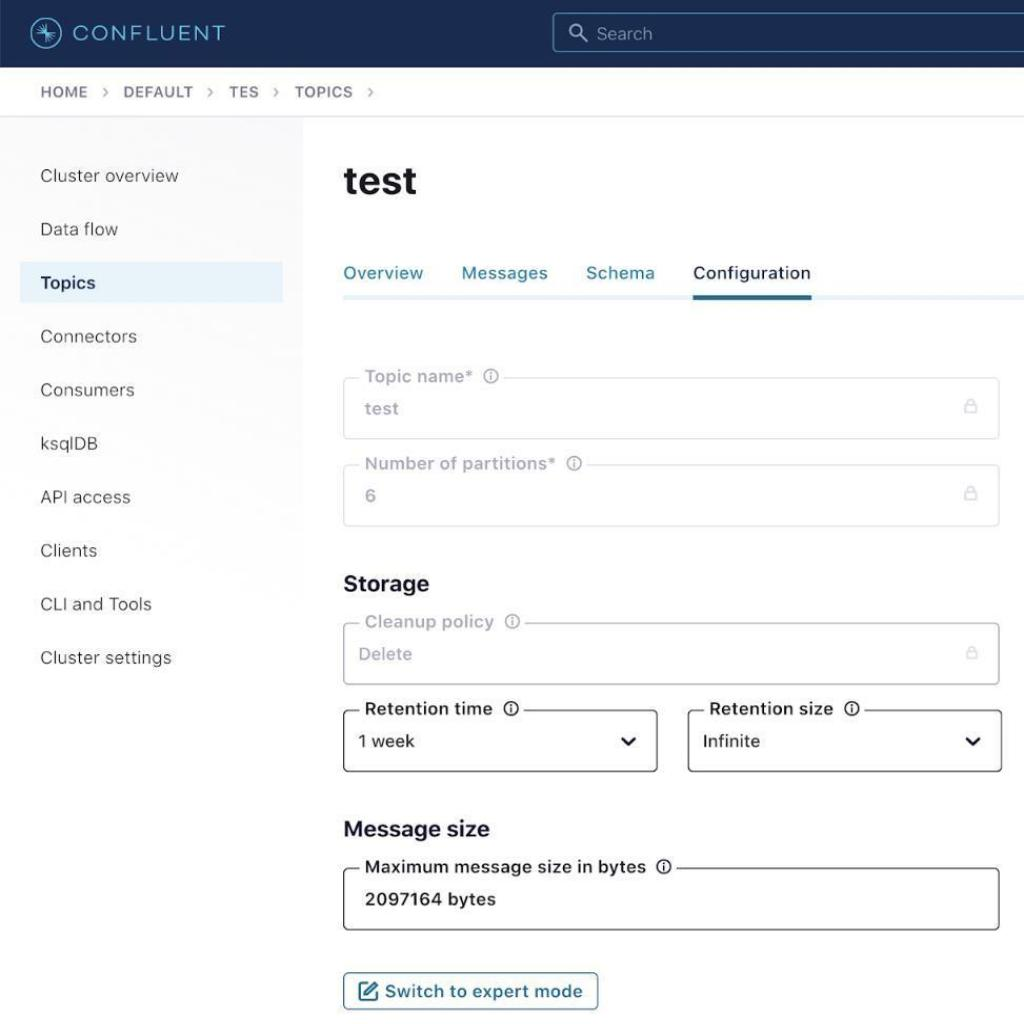button: (344, 973, 598, 1007)
dropdown: (342, 708, 658, 768), (689, 712, 1000, 772)
input: (344, 625, 999, 687), (344, 379, 999, 440), (343, 466, 998, 526), (345, 872, 1000, 930)
label: (332, 568, 432, 601)
